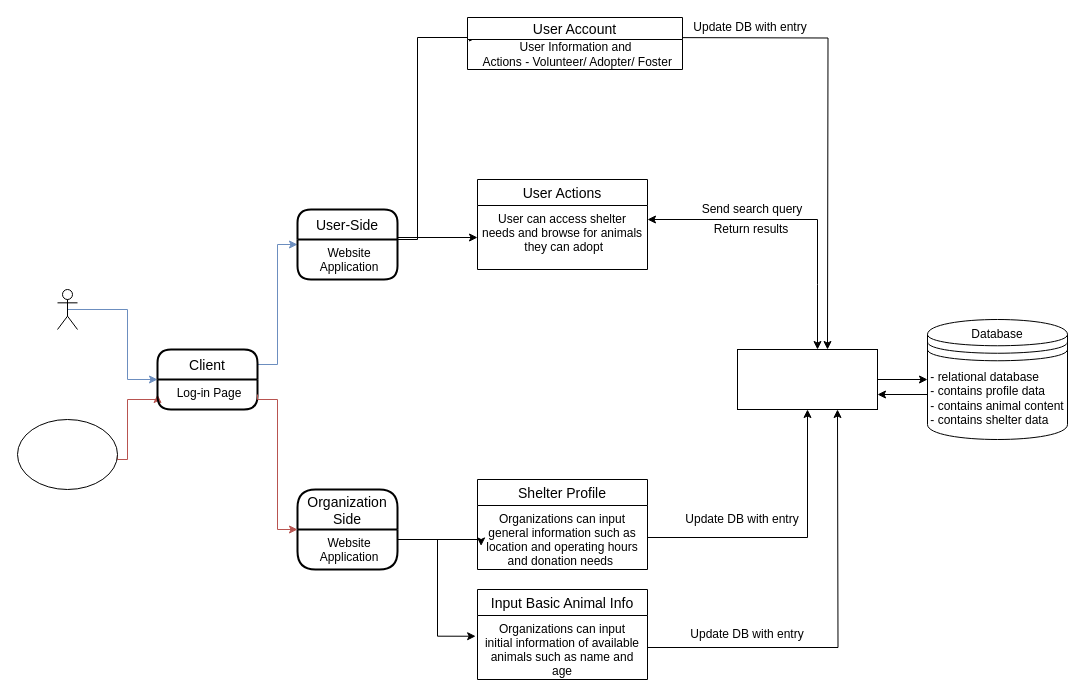
Image size: 1085x700. Some labels were removed from this diagram. Here are the shapes that lost their labels. From the top down, the centre of each, then its label:
point (67, 309): General User
point (807, 379): Server
point (67, 454): Sheltered Animal Organization
